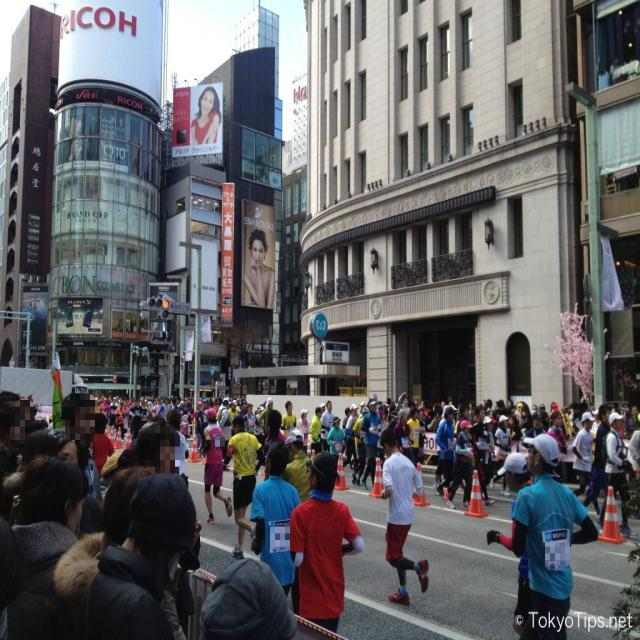body: (106, 385, 640, 487), (0, 385, 107, 640), (52, 467, 187, 639), (81, 470, 205, 639), (508, 431, 600, 639), (8, 453, 90, 640), (289, 450, 365, 640), (109, 420, 204, 566), (377, 428, 429, 608), (248, 442, 304, 604), (485, 451, 533, 637), (192, 553, 294, 640), (222, 412, 266, 561), (60, 392, 103, 502), (596, 409, 632, 538), (198, 406, 234, 526), (572, 410, 602, 519), (582, 403, 612, 509), (444, 417, 476, 511), (469, 404, 497, 508), (242, 227, 276, 311), (279, 429, 316, 503), (433, 404, 459, 504), (358, 396, 383, 492), (189, 84, 222, 149), (489, 413, 512, 498), (544, 410, 570, 485), (477, 414, 497, 501), (63, 106, 94, 162), (165, 408, 189, 478), (350, 406, 371, 486), (215, 398, 232, 472), (392, 408, 414, 462), (341, 403, 358, 471), (404, 407, 420, 470), (308, 406, 327, 459), (326, 416, 346, 462), (194, 398, 212, 447), (263, 409, 287, 445), (319, 399, 335, 452), (455, 401, 474, 440), (257, 397, 274, 438), (296, 408, 310, 457), (280, 400, 298, 437), (524, 411, 547, 438), (242, 402, 260, 436), (227, 398, 241, 424)
